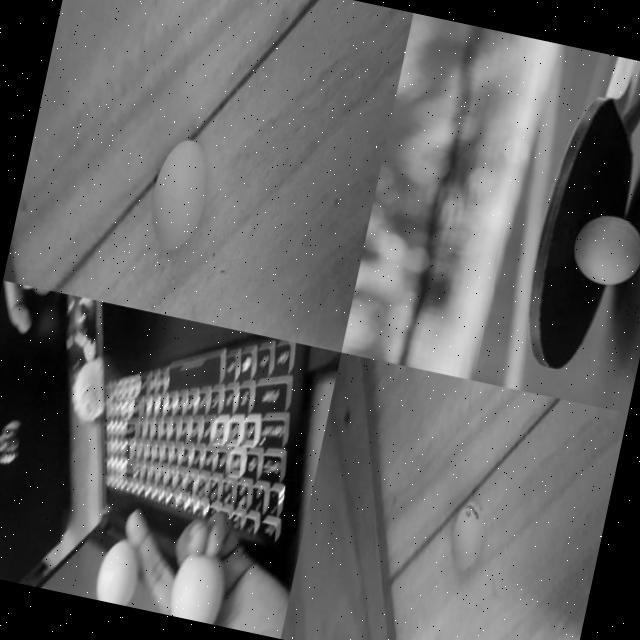ping-pong-ball: (140, 136, 213, 255), (566, 211, 640, 290), (164, 552, 227, 624), (90, 538, 144, 606), (444, 500, 487, 571)
